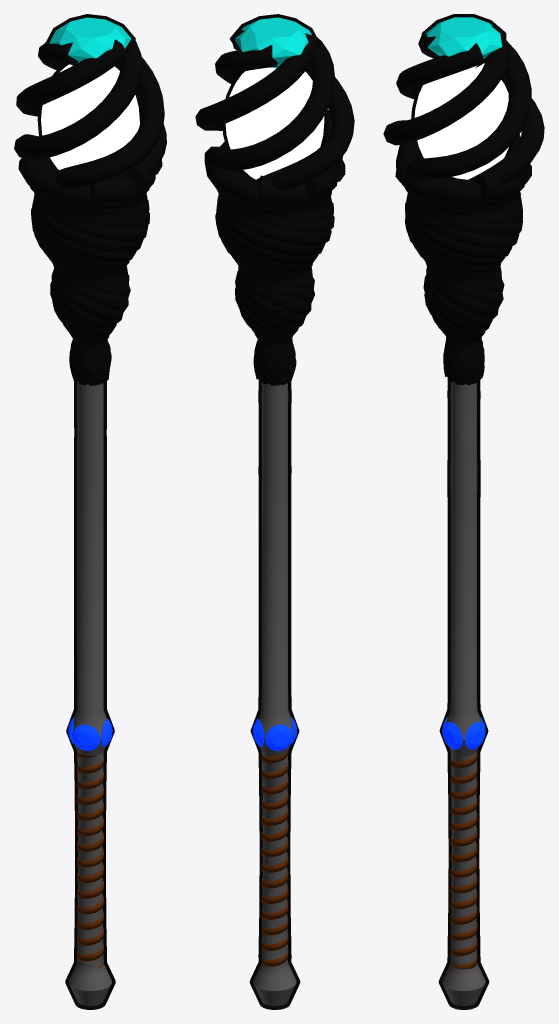
File: magic staff.fbx
3 renders of one model, left to right at view 1: azimuth 30°, elevation 25°; view 2: azimuth 150°, elevation 25°; view 3: azimuth 270°, elevation 25°, orthographic.
Parts seen in each view (by area): view 1: magic staff; view 2: magic staff; view 3: magic staff.
Boxes of the visible parts, left/top/right/bottom form: magic staff: left=14, top=14, right=166, bottom=1009; magic staff: left=195, top=14, right=354, bottom=1009; magic staff: left=383, top=14, right=544, bottom=1009.
Bounding box in the file's own units: 111 × 742 × 111.
